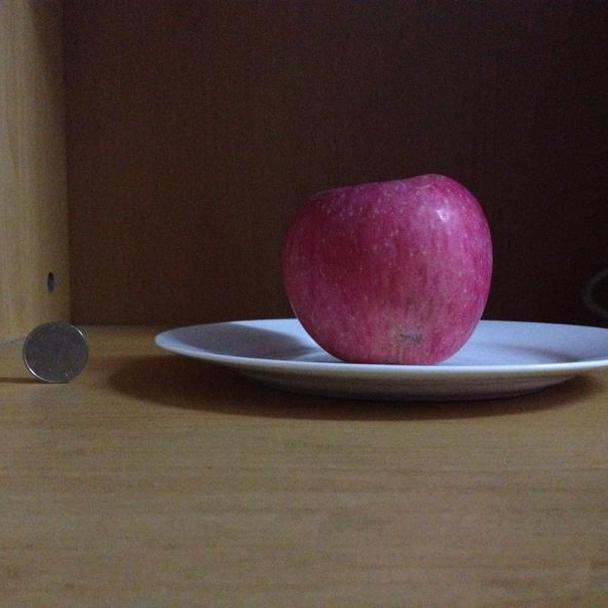apple: (277, 173, 495, 366)
